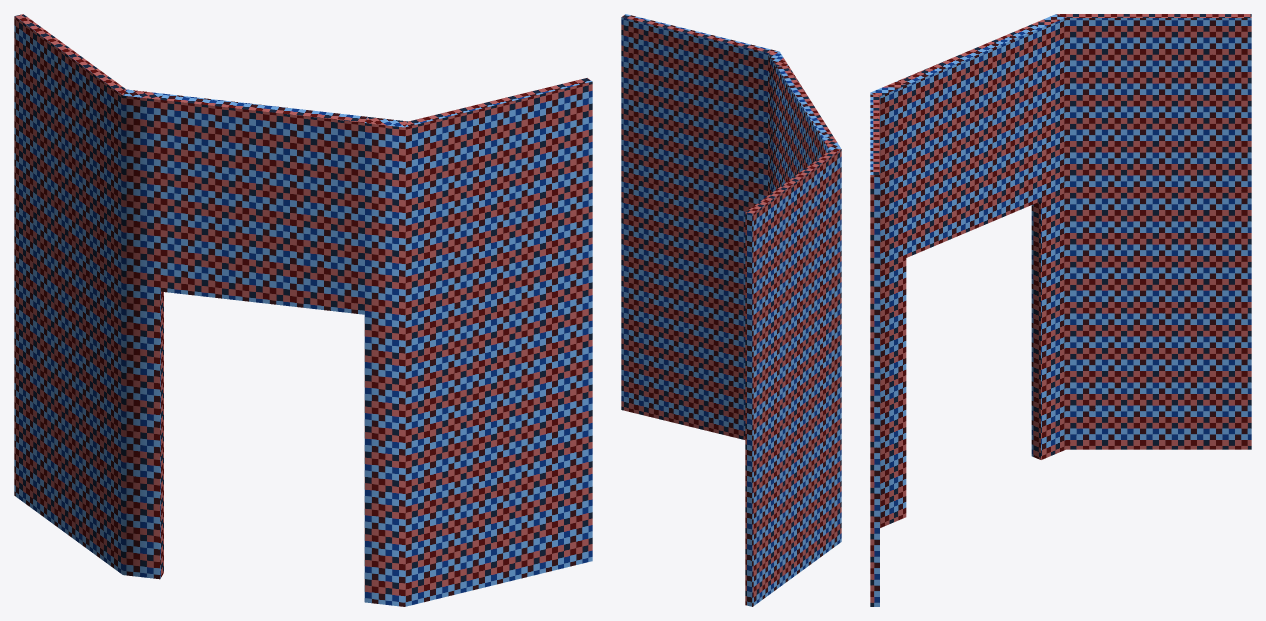
File: wall_turn_angled_Door_01.fbx
The picture shows the model from 3 angles, left to right: view 1: azimuth 30°, elevation 25°; view 2: azimuth 150°, elevation 25°; view 3: azimuth 270°, elevation 25°; orthographic projection. The views are drawn at different scales.
Parts seen in each view (by area): view 1: wall_turn_angled_Door_01; view 2: wall_turn_angled_Door_01; view 3: wall_turn_angled_Door_01.
Part boxes in pixels (<box>): wall_turn_angled_Door_01: <box>14,14,592,606</box>; wall_turn_angled_Door_01: <box>621,14,841,606</box>; wall_turn_angled_Door_01: <box>870,14,1251,606</box>.
Size of the model in its own units: 400 by 500 by 400.
1 material, 1 textured.
